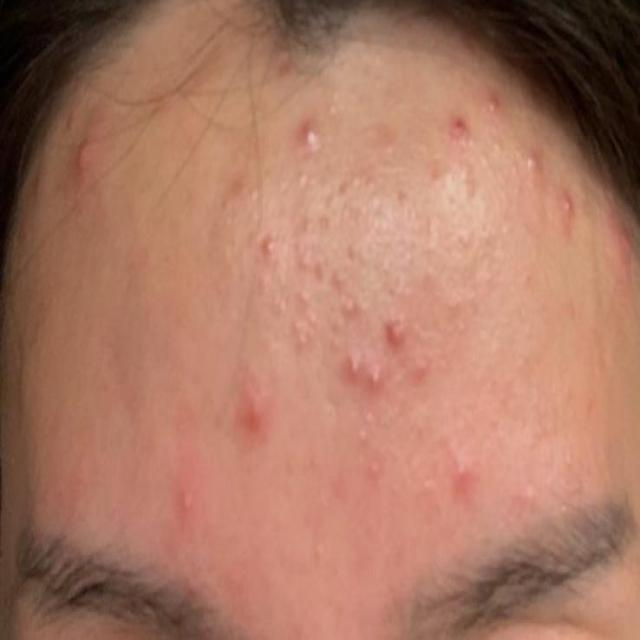comedone: (298, 103, 336, 194), (508, 138, 548, 198), (545, 194, 579, 246), (257, 217, 286, 273), (341, 337, 369, 392), (267, 286, 301, 324), (290, 318, 318, 359), (366, 366, 387, 410)
papule: (65, 112, 116, 231), (446, 446, 481, 535), (241, 374, 273, 460), (435, 113, 476, 160), (384, 296, 415, 351), (176, 476, 195, 552)
